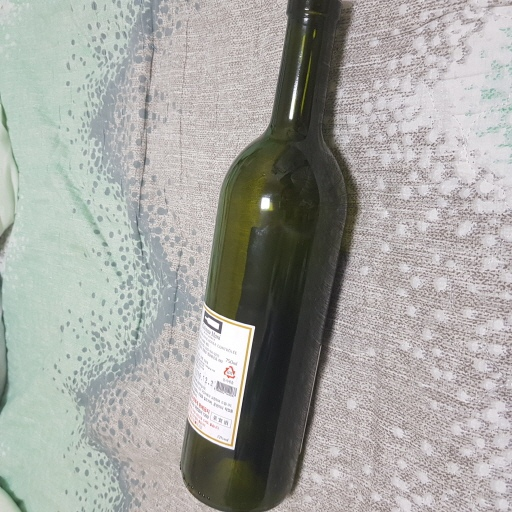Glass_2: (183, 1, 354, 512)
